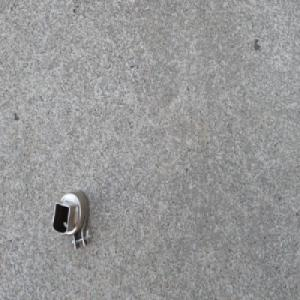MetalPart: (51, 188, 93, 251)
